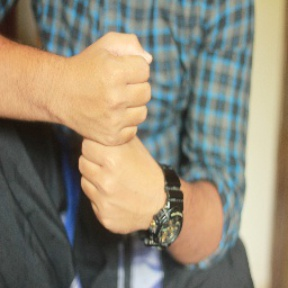G: (70, 24, 163, 244)
